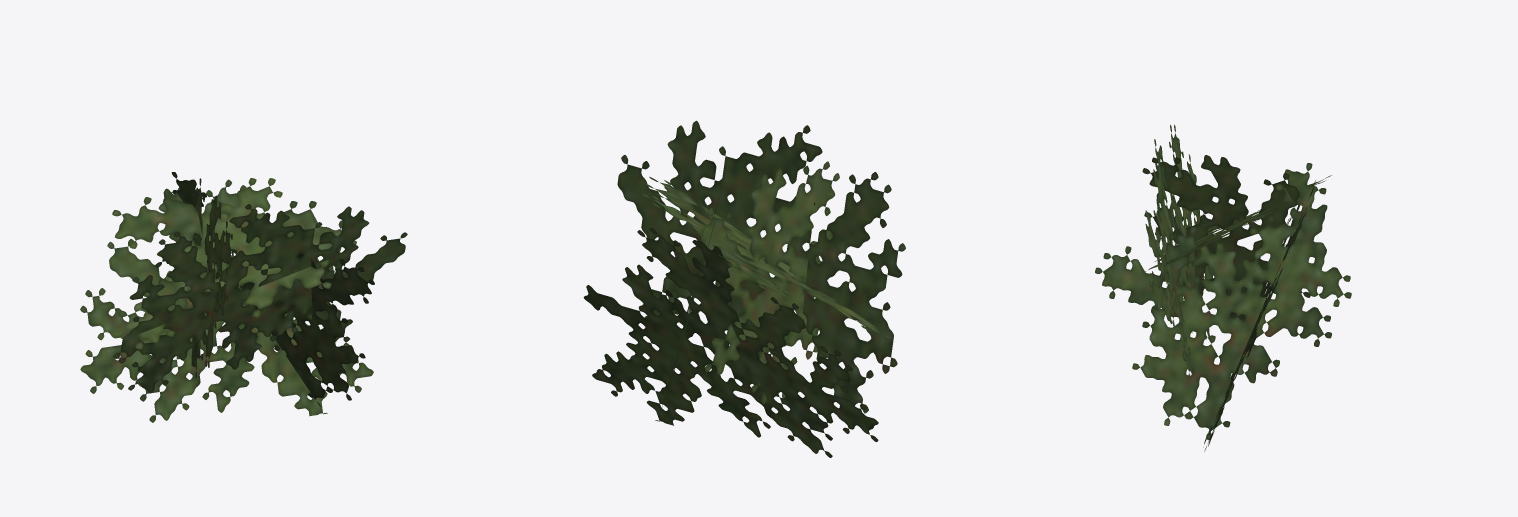
File: pine_leaves_dark_vertical_slab.obj
3 views of the same model, side by side, from view 1: azimuth 30°, elevation 25°; view 2: azimuth 150°, elevation 25°; view 3: azimuth 270°, elevation 25° (orthographic). The views are drawn at different scales.
Parts seen in each view (by area): view 1: plane; view 2: plane; view 3: plane.
Part boxes in pixels (x1=…): plane: x1=80, y1=172, x2=407, y2=422; plane: x1=583, y1=120, x2=905, y2=457; plane: x1=1095, y1=124, x2=1351, y2=451.
Bounding box in the file's own units: 1.82 × 1.98 × 2.13.
